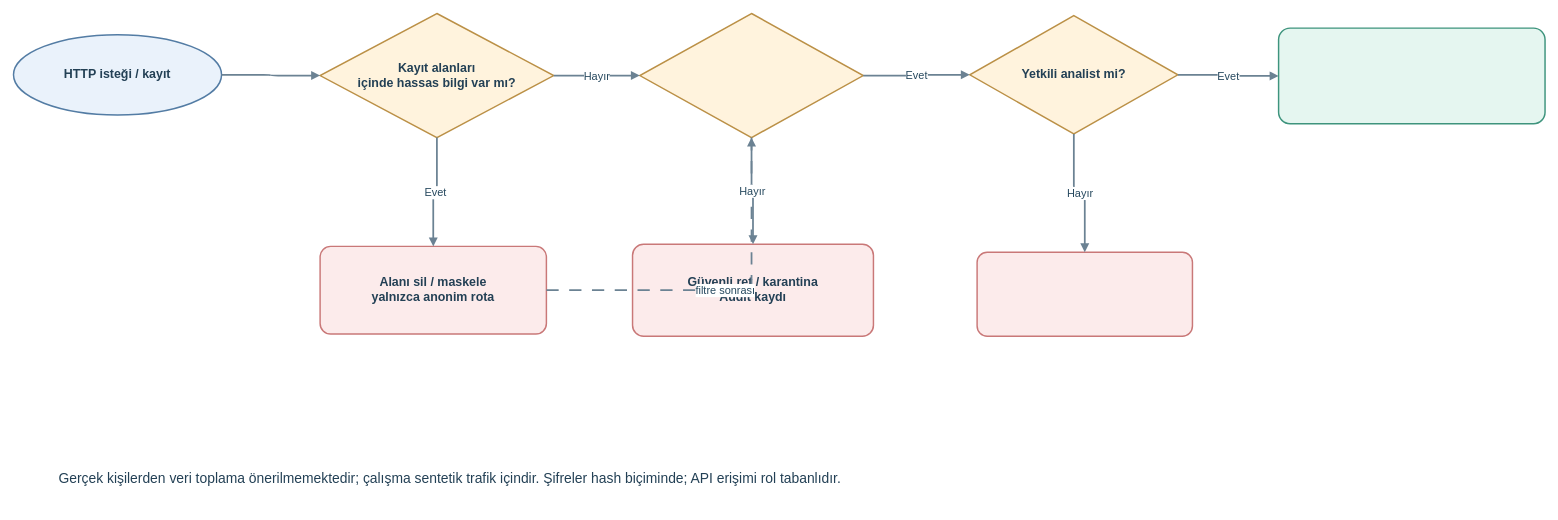
This 1558x520 diagram has some shape labels left out. The shapes that lost their labels are listed below. From the top down, each one's centre as x and y in pixels, then its label:
point (751, 75): UTC / rota / status şeması geçerli mi?
point (1411, 75): Güvenli depolama Rol kontrollü gösterim
point (1084, 294): 403 ve denetim kaydı
